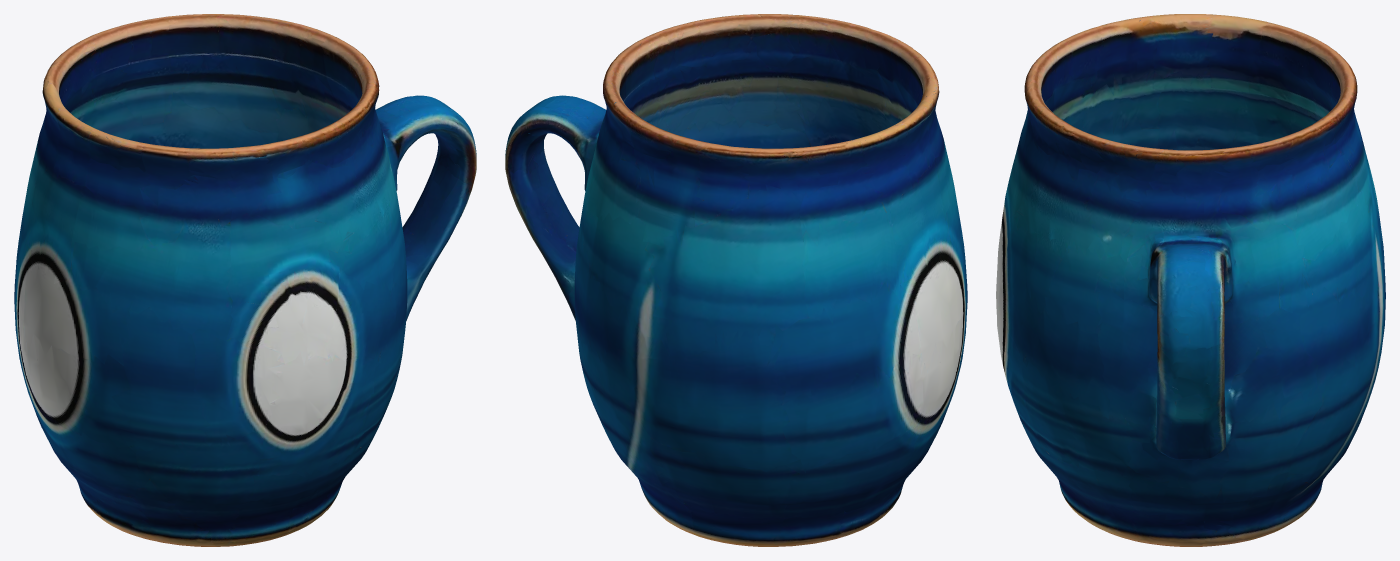
The model's file is kitchen-mug-05.glb.
3 renders of one model, left to right at view 1: azimuth 30°, elevation 25°; view 2: azimuth 150°, elevation 25°; view 3: azimuth 270°, elevation 25°, orthographic.
Bounding box in the file's own units: 1.9 × 1.76 × 1.5.
1 material, 1 textured.
